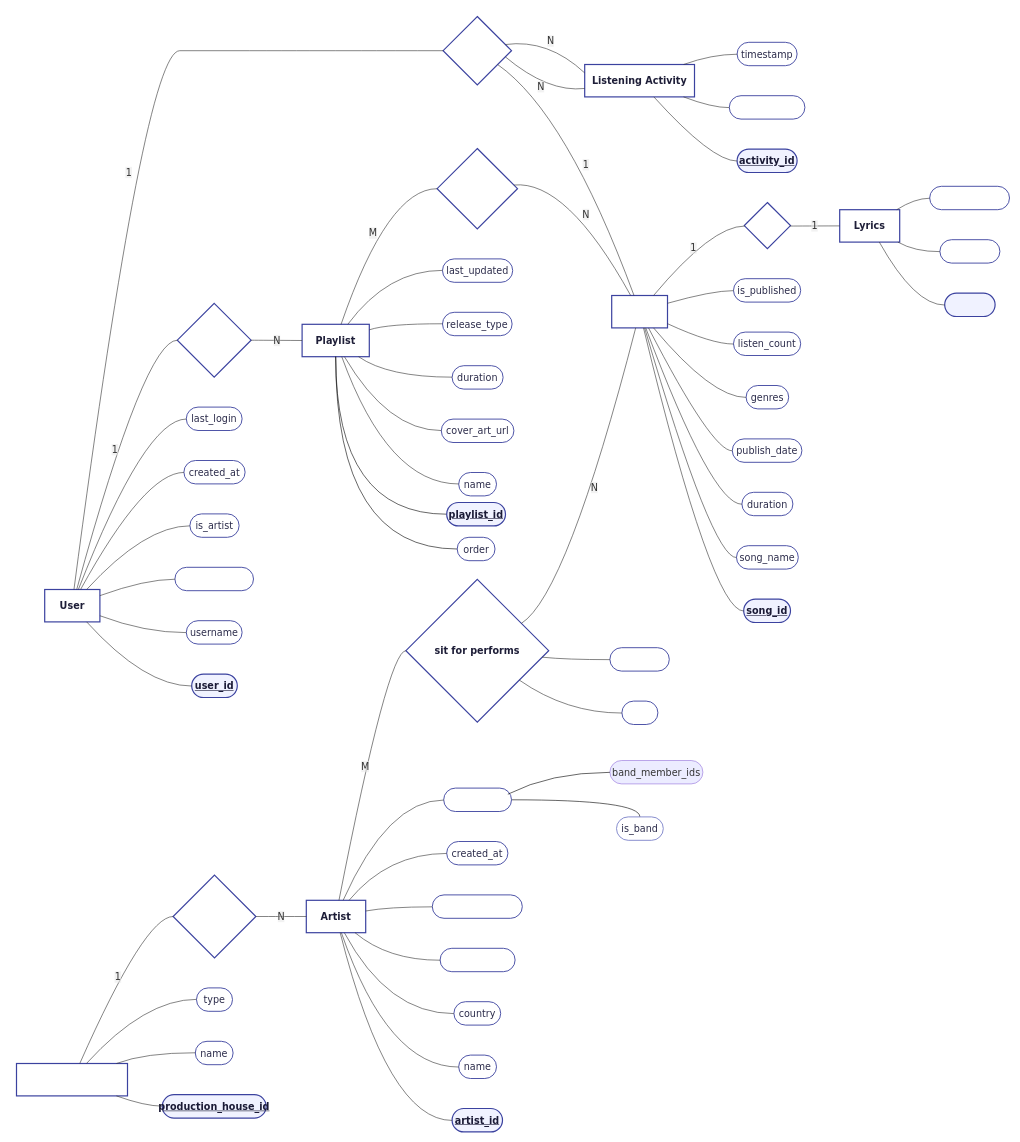
Image size: 1020x1142. Some labels were removed from this diagram. The shapes that lost their labels are listed below. From the top down, each one's box as (x1, y1, x2, y2) in pixels, then its label:
(442, 16, 512, 85): record
(729, 95, 805, 119): listening_time
(436, 148, 518, 229): contains
(929, 186, 1010, 210): lyrics_filename
(743, 202, 791, 249): has
(939, 239, 1000, 263): lyrics_text
(611, 295, 668, 328): Song
(944, 292, 995, 317): lyrics_id
(176, 302, 251, 377): creates
(174, 567, 254, 591): password_hash
(609, 647, 669, 671): is_primary
(621, 700, 658, 725): role
(443, 787, 512, 812): Band Details
(172, 874, 256, 958): manages
(432, 894, 522, 918): country_of_origin
(439, 948, 515, 972): n_of_listeners
(16, 1063, 128, 1096): Production House
